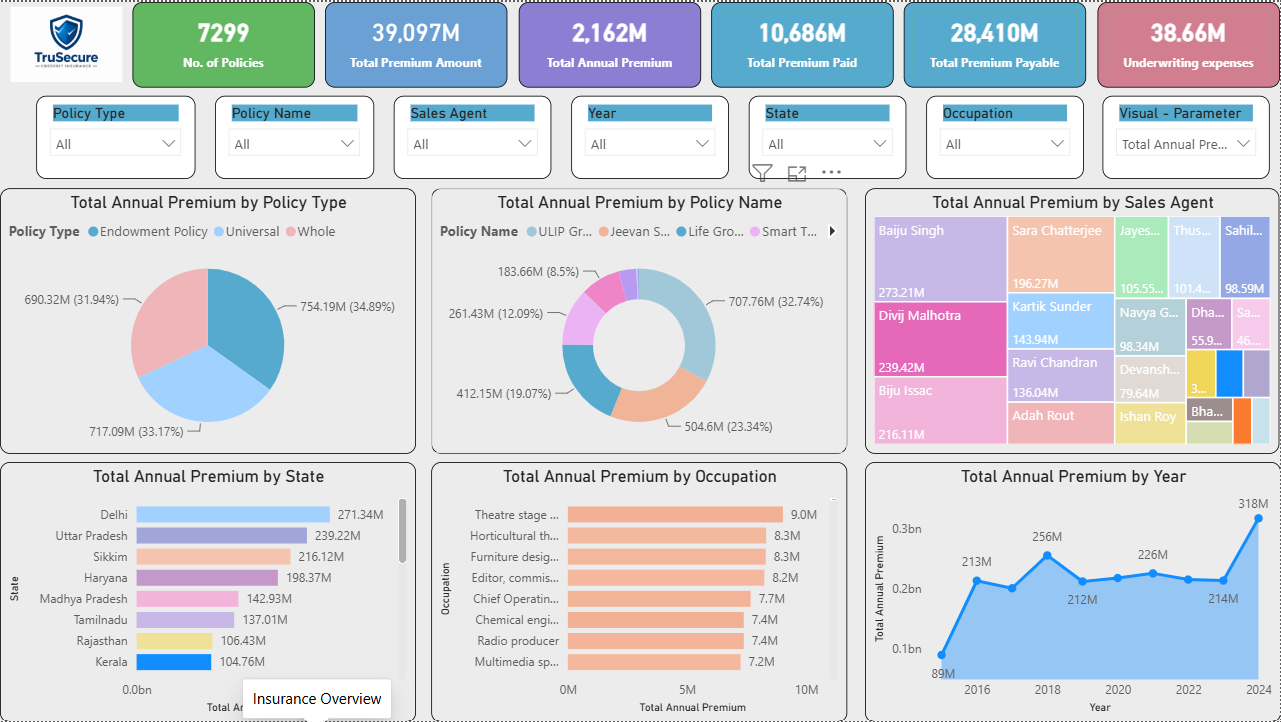

The page's visual inventory and layout, read from the dashboard file:
{"tool":"powerbi","page":{"name":"Insurance Overview","canvas":[1280,720],"ordinal":1},"visuals":[{"type":"cardVisual","fields":{"Data":["CountNonNull(DM Customer_Detail_Table.Customer ID)"]},"box":[132.5,0,182,85.6],"z":0},{"type":"cardVisual","fields":{"Data":["Sum(FCT Insurance_Policy_Table.Total Annual Premium)"]},"box":[518.3,0,182.2,85.6],"z":1000},{"type":"cardVisual","fields":{"Data":["Sum(FCT Insurance_Policy_Table.Total Premium Amount)"]},"box":[325.3,0,182.2,85.6],"z":2000},{"type":"cardVisual","fields":{"Data":["Sum(FCT Insurance_Policy_Table.Total Premium Paid)"]},"box":[711.3,0,182.2,85.6],"z":3000},{"type":"cardVisual","fields":{"Data":["Sum(FCT Insurance_Policy_Table.Total Premium Payable)"]},"box":[904.3,0,182.2,85.6],"z":4000},{"type":"cardVisual","fields":{"Data":["Sum(FCT Insurance_Policy_Table.Underwriting expenses)"]},"box":[1097.3,0,182.2,85.6],"z":5000},{"type":"slicer","fields":{"Values":["DM Policy_Type.Policy Type"]},"box":[36.7,94.2,159,83.2],"z":6000},{"type":"slicer","fields":{"Values":["DM Policy_Protection_Plan.Policy Name"]},"box":[215.3,93.9,159,83.2],"z":7000},{"type":"slicer","fields":{"Values":["DM Insurance_Agent_Table.Sales Agent"]},"box":[393.8,93.9,157.7,83.2],"z":8000},{"type":"slicer","fields":{"Values":["FCT Insurance_Policy_Table.Start Date.Variation.Date Hierarchy.Year"]},"box":[571.2,93.9,157.7,83.2],"z":9000},{"type":"slicer","fields":{"Values":["DM Customer_Detail_Table.State"]},"box":[748.5,93.9,157.7,83.2],"z":10000},{"type":"slicer","fields":{"Values":["DM Customer_Detail_Table.Occupation"]},"box":[925.9,93.9,157.7,83.2],"z":11000},{"type":"image","box":[0,0,132.5,85],"z":12000},{"type":"slicer","fields":{"Values":["Visual - Parameter.Visual - Parameter"]},"box":[1103,94.2,167.5,83.2],"z":13000},{"type":"pieChart","fields":{"Y":["FCT Insurance_Policy_Table.Total Annual_Premium"],"Category":["DM Policy_Type.Policy Type"]},"box":[0,185.9,415.8,265.4],"z":14000},{"type":"barChart","fields":{"Y":["FCT Insurance_Policy_Table.Total Annual_Premium"],"Category":["DM Customer_Detail_Table.Occupation"]},"box":[431.7,459.8,415.8,260.5],"z":15000},{"type":"lineChart","fields":{"Y":["FCT Insurance_Policy_Table.Total Annual_Premium"],"Category":["FCT Insurance_Policy_Table.Start Date.Variation.Date Hierarchy.Year"]},"box":[864.5,459.8,415.8,260.5],"z":16000},{"type":"donutChart","fields":{"Y":["FCT Insurance_Policy_Table.Total Annual_Premium"],"Category":["DM Policy_Protection_Plan.Policy Name"]},"box":[431.7,185.9,415.8,265.4],"z":17000},{"type":"barChart","fields":{"Y":["FCT Insurance_Policy_Table.Total Annual_Premium"],"Category":["DM Customer_Detail_Table.State"]},"box":[0,459.8,415.8,260.5],"z":18000},{"type":"treemap","fields":{"Values":["FCT Insurance_Policy_Table.Total Annual_Premium"],"Group":["DM Insurance_Agent_Table.Sales Agent"]},"box":[864.5,185.9,414.5,265.4],"z":19000}]}

Visuals, with their boxes in screenshot pixels (x1, y1, x2, y2), scaled from the page's 1280x720 canvas onto the 1281x722 screenshot:
cardVisual - CountNonNull(DM Customer_Detail_Table.Customer ID): (133,0,315,86)
cardVisual - Sum(FCT Insurance_Policy_Table.Total Annual Premium): (519,0,701,86)
cardVisual - Sum(FCT Insurance_Policy_Table.Total Premium Amount): (326,0,508,86)
cardVisual - Sum(FCT Insurance_Policy_Table.Total Premium Paid): (712,0,894,86)
cardVisual - Sum(FCT Insurance_Policy_Table.Total Premium Payable): (905,0,1087,86)
cardVisual - Sum(FCT Insurance_Policy_Table.Underwriting expenses): (1098,0,1280,86)
slicer - DM Policy_Type.Policy Type: (37,94,196,178)
slicer - DM Policy_Protection_Plan.Policy Name: (215,94,375,178)
slicer - DM Insurance_Agent_Table.Sales Agent: (394,94,552,178)
slicer - FCT Insurance_Policy_Table.Start Date.Variation.Date Hierarchy.Year: (572,94,729,178)
slicer - DM Customer_Detail_Table.State: (749,94,907,178)
slicer - DM Customer_Detail_Table.Occupation: (927,94,1084,178)
image: (0,0,133,85)
slicer - Visual - Parameter.Visual - Parameter: (1104,94,1271,178)
pieChart - FCT Insurance_Policy_Table.Total Annual_Premium x DM Policy_Type.Policy Type: (0,186,416,453)
barChart - FCT Insurance_Policy_Table.Total Annual_Premium x DM Customer_Detail_Table.Occupation: (432,461,848,721)
lineChart - FCT Insurance_Policy_Table.Total Annual_Premium x FCT Insurance_Policy_Table.Start Date.Variation.Date Hierarchy.Year: (865,461,1280,721)
donutChart - FCT Insurance_Policy_Table.Total Annual_Premium x DM Policy_Protection_Plan.Policy Name: (432,186,848,453)
barChart - FCT Insurance_Policy_Table.Total Annual_Premium x DM Customer_Detail_Table.State: (0,461,416,721)
treemap - FCT Insurance_Policy_Table.Total Annual_Premium x DM Insurance_Agent_Table.Sales Agent: (865,186,1280,453)
